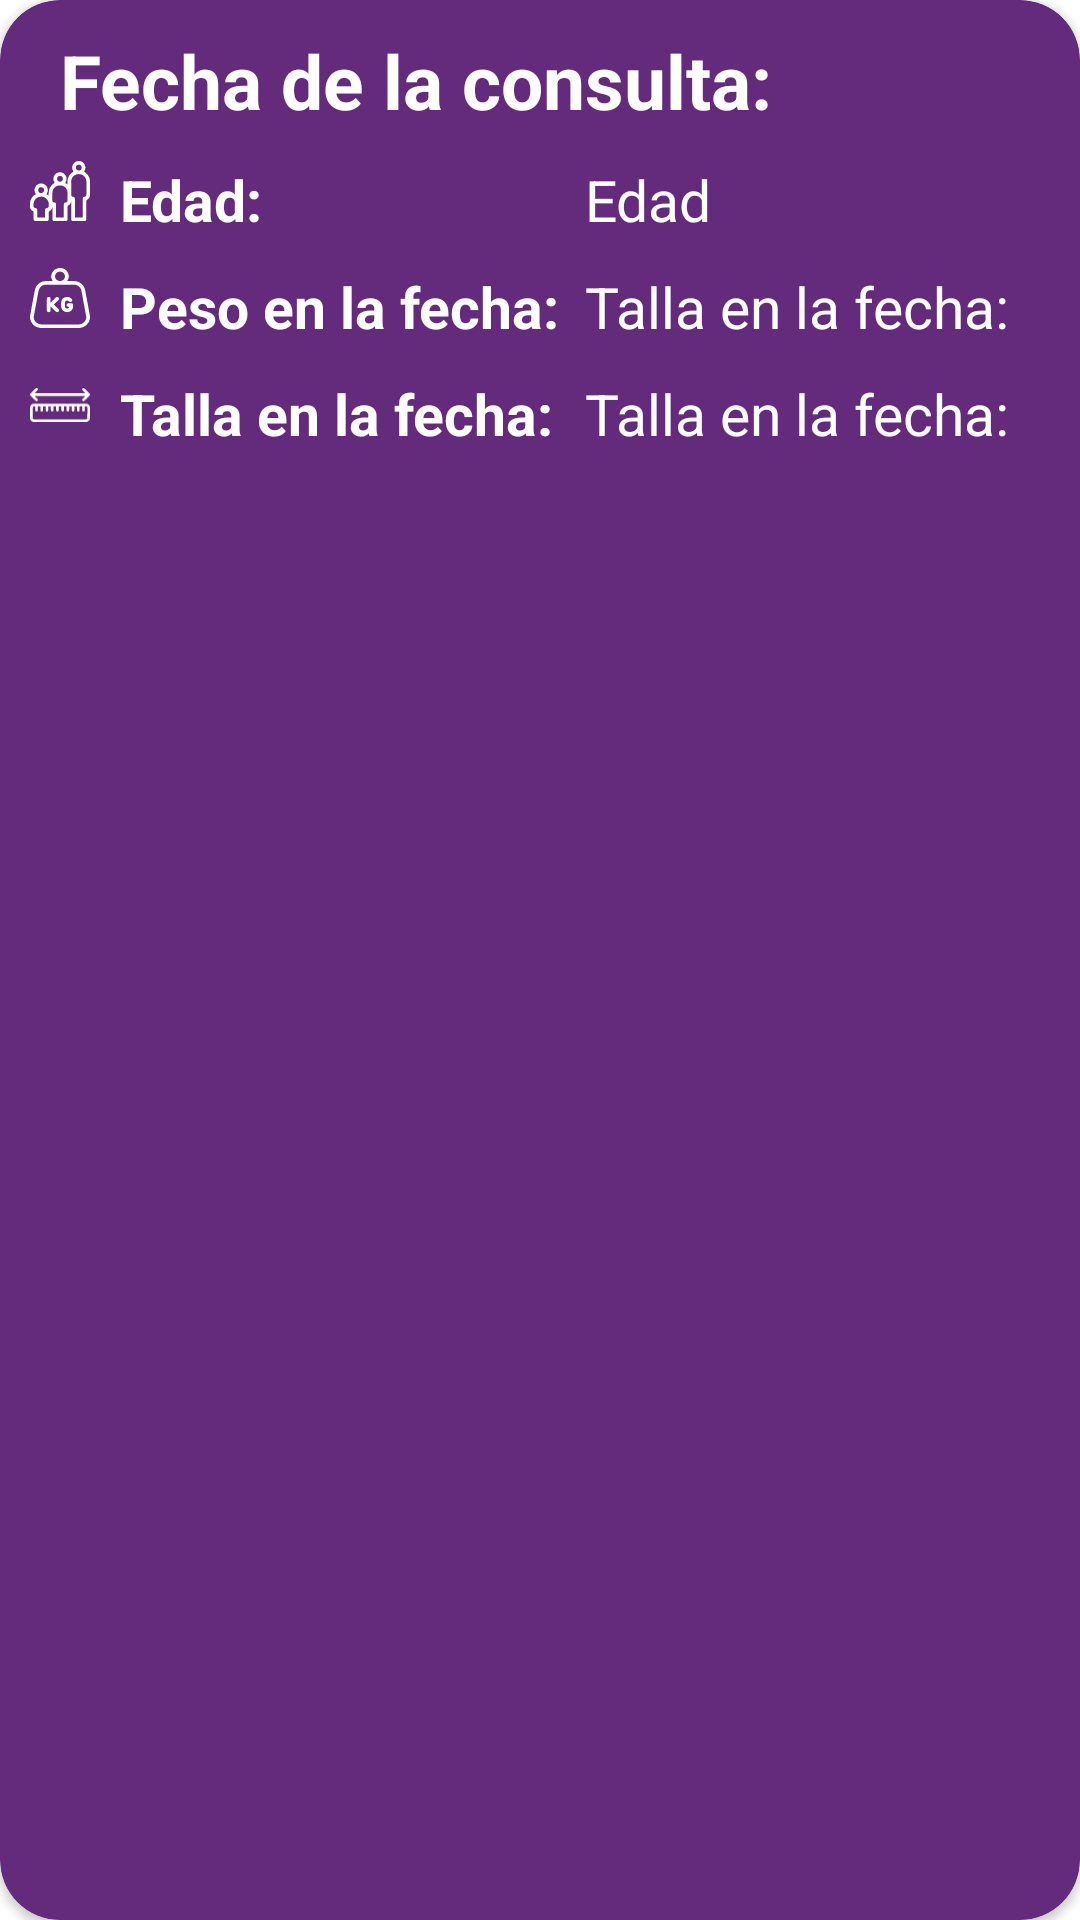

Icons on this 1080px×1920px Android screen, each with its box as (x1, y1, x2, y2):
peso blanco: (30, 268, 90, 328)
talla blanca: (30, 388, 90, 422)
